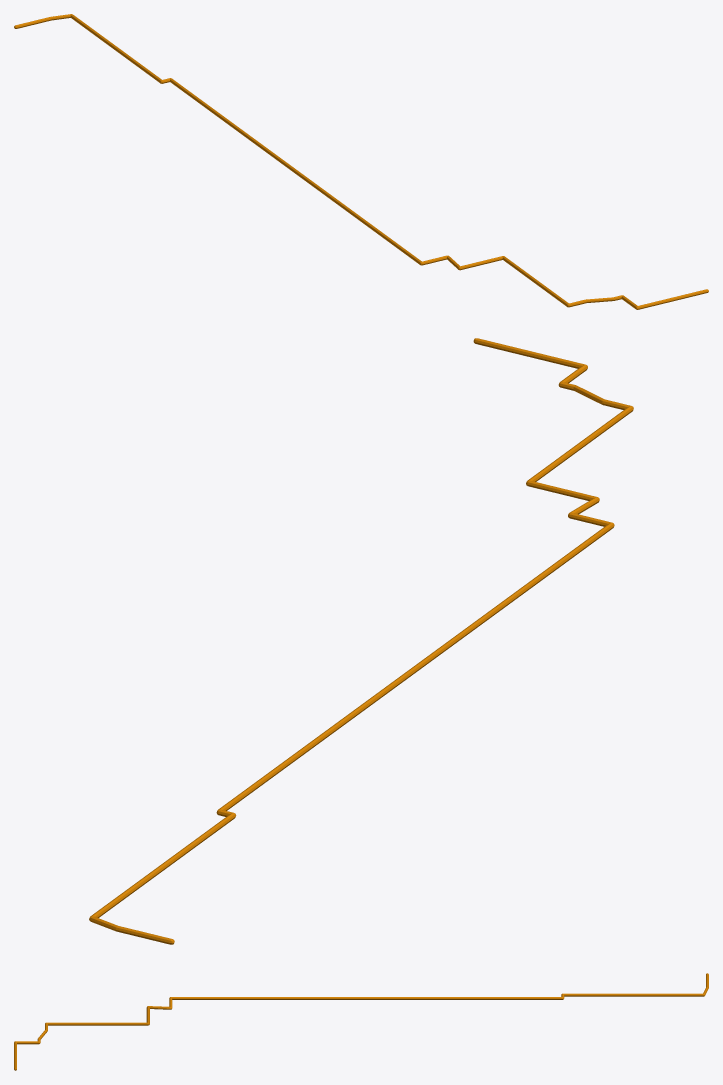
3 renders of one model, top to bottom at view 1: azimuth 30°, elevation 25°; view 2: azimuth 150°, elevation 25°; view 3: azimuth 270°, elevation 25°, orthographic. The views are drawn at different scales.
Bounding box in the file's own units: 1446 × 20 × 4433.
